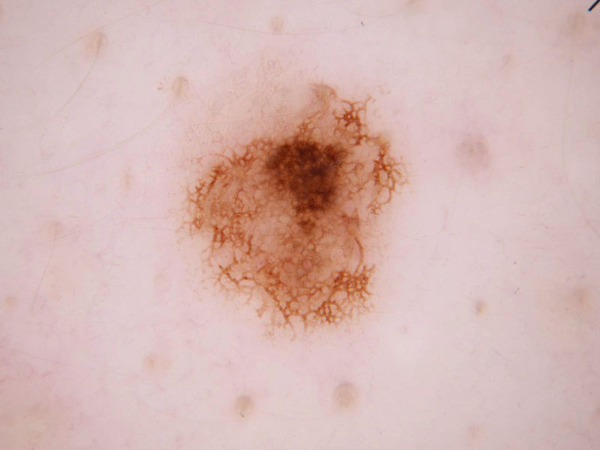Color changes: (280, 188, 326, 226)
